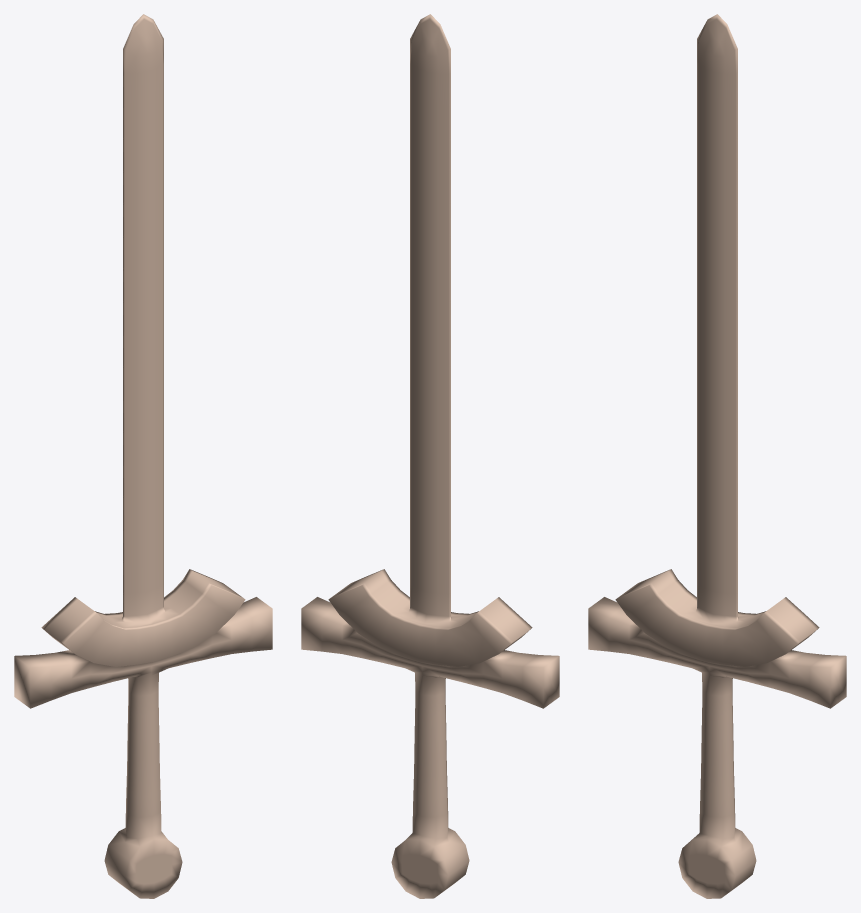
File: swordslashmesh.fbx
3 views of the same model, side by side, from view 1: azimuth 30°, elevation 25°; view 2: azimuth 150°, elevation 25°; view 3: azimuth 330°, elevation 25° (orthographic).
Visible parts, largest first — view 1: LargeSword:sword; view 2: LargeSword:sword; view 3: LargeSword:sword.
Part boxes in pixels (x1,y1,x2,y2): LargeSword:sword: [14, 14, 272, 898]; LargeSword:sword: [301, 14, 559, 898]; LargeSword:sword: [588, 14, 846, 898].
Size of the model in its own units: 44.83 by 155 by 7.17.
